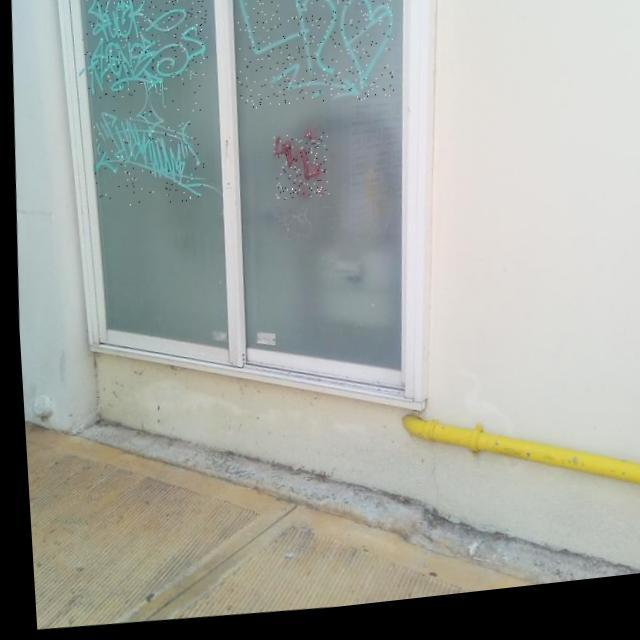-: (230, 0, 396, 120), (87, 98, 209, 214), (79, 0, 210, 106), (269, 136, 328, 208)
